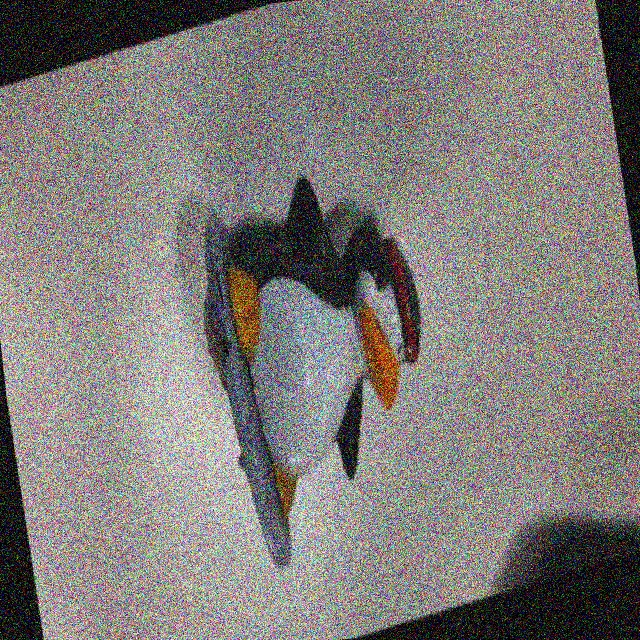Penguin: (172, 134, 468, 602)
